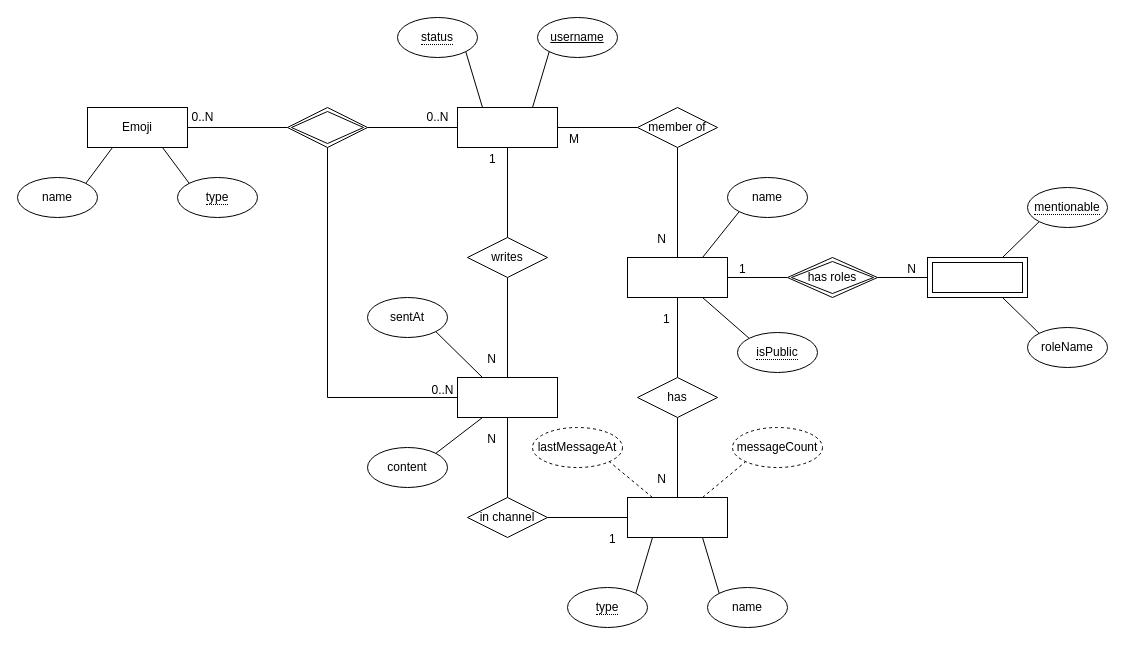
Some shapes in this 1125 by 645 pixel diagram are drawn without their labels. Each missing label, with the box of its shape:
Channel: (626, 496, 728, 538)
Message: (456, 376, 558, 418)
reaction: (286, 106, 368, 148)
Role: (926, 256, 1028, 298)
Server: (626, 256, 728, 298)
User: (456, 106, 558, 148)
